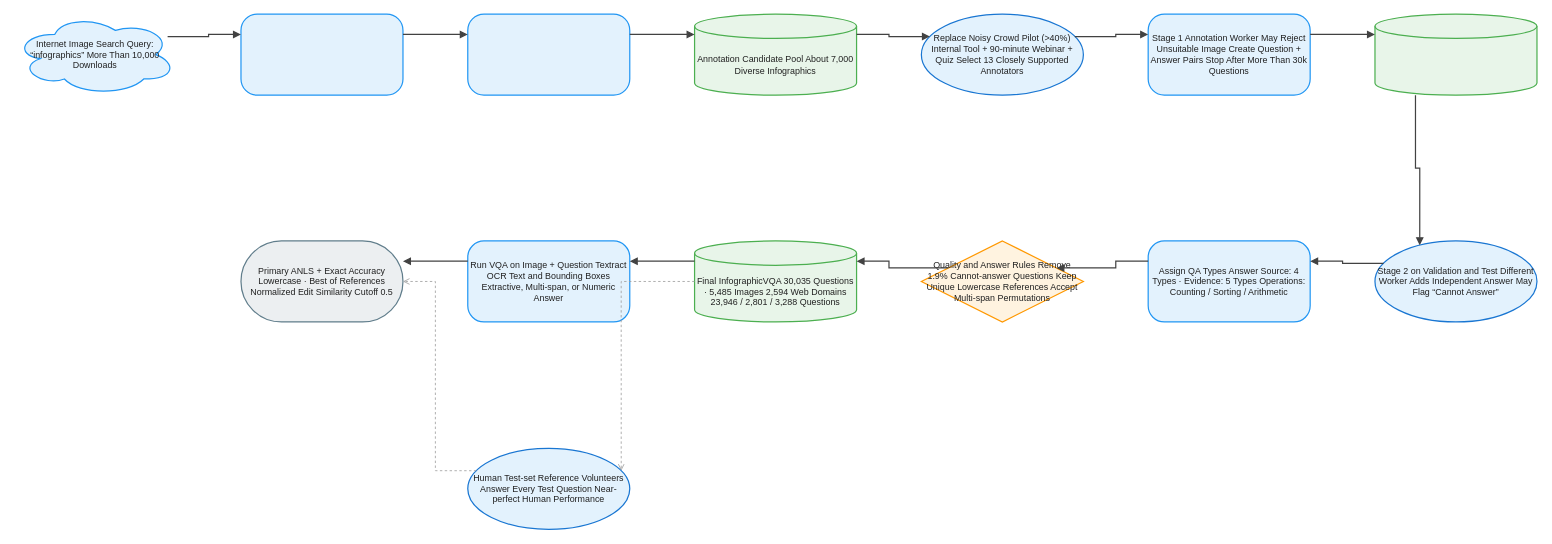
Image size: 1552x544. Some labels were removed from this diagram. The box of each missing label's shape, as (x1, y1, x2, y2) in pixels:
Perceptual-hash Deduplication Remove Nearly 2,000 Duplicate Images: (240, 13, 403, 95)
Random Image-disjoint Splits Roughly 80% / 10% / 10% Train · Validation · Test: (1374, 13, 1537, 95)
Second Deduplication Amazon Textract OCR Tokens Jaccard Similarity: (467, 13, 630, 95)
